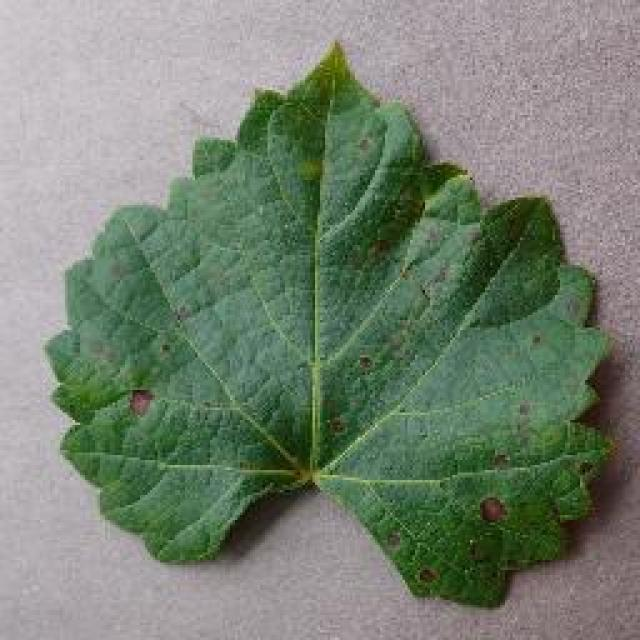Grape___Black_rot: (40, 36, 629, 612)
